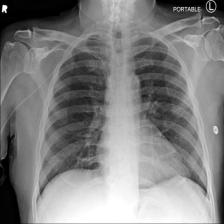normal: (30, 28, 213, 215)
